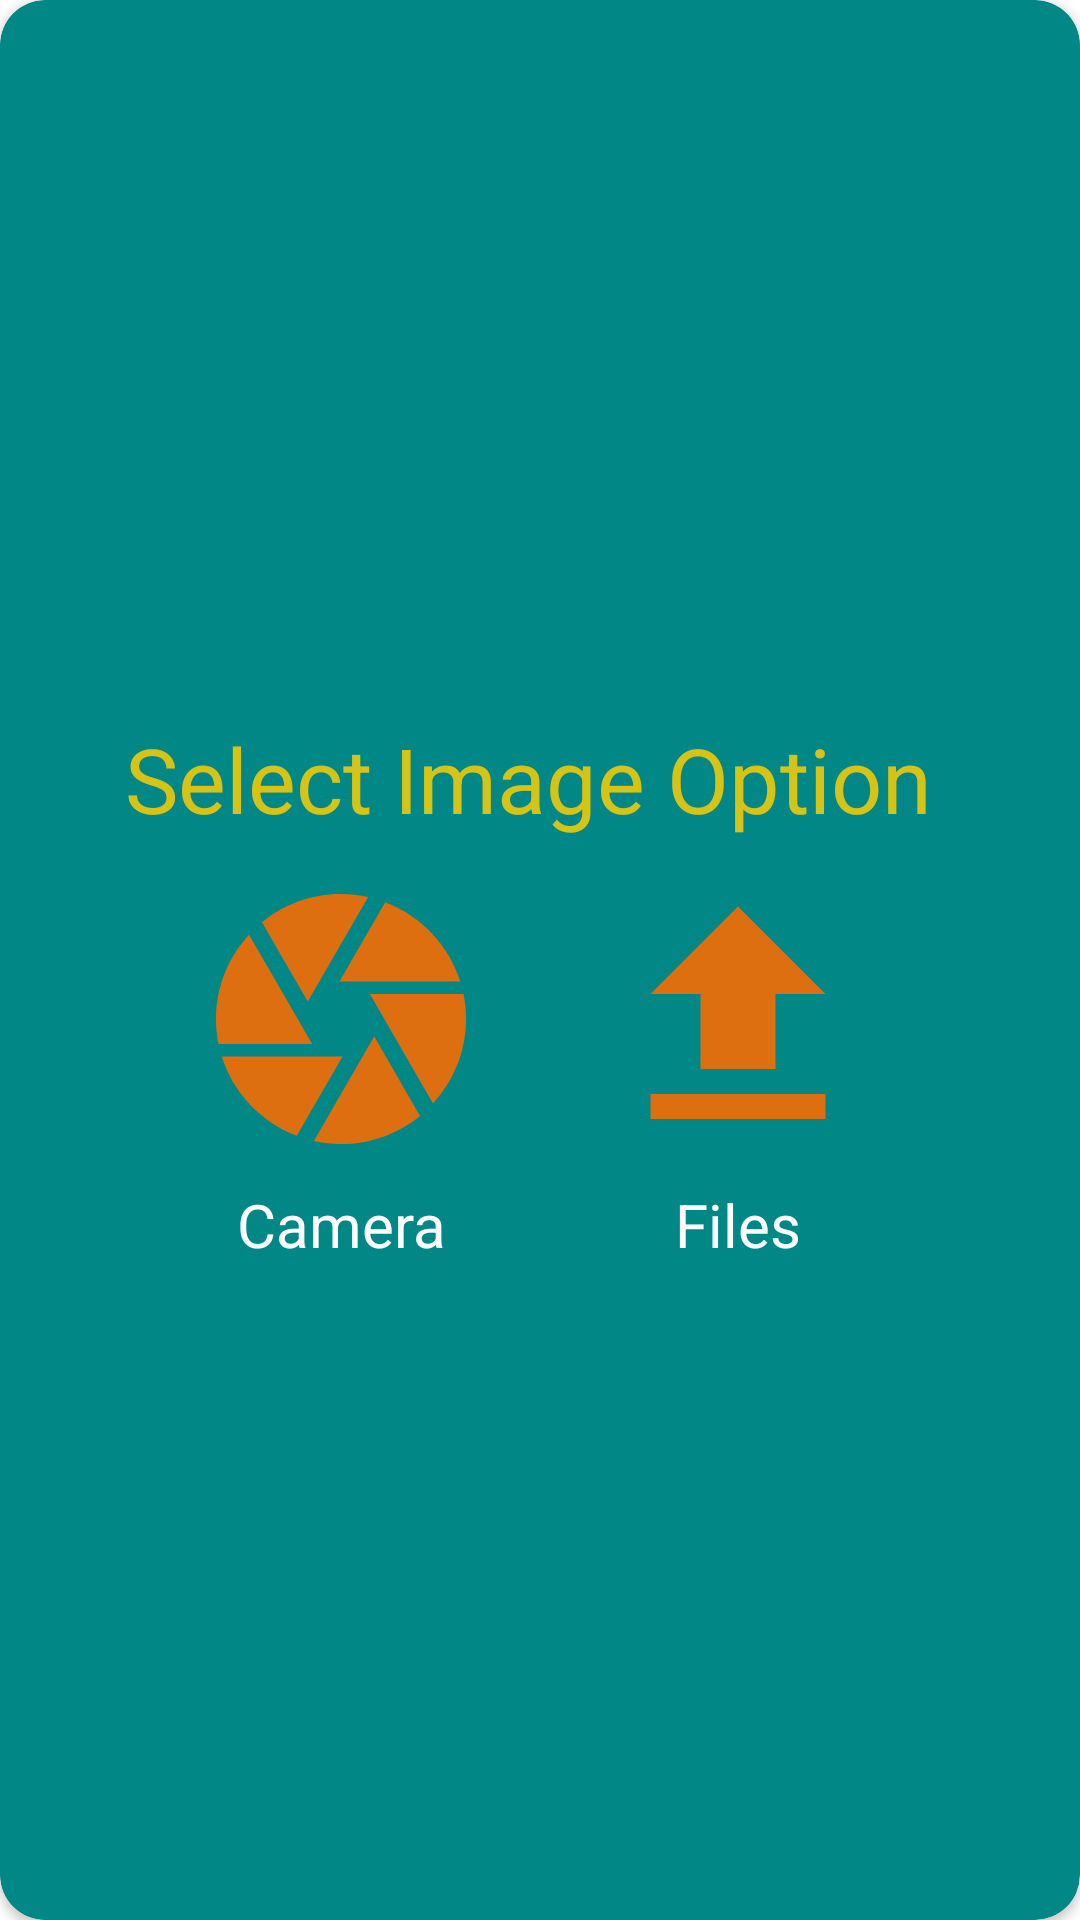

Locate icon controls on the screen. Image size 1080x1920, boxes as [x1,y1,x2,y2].
upload: [650,906,826,1119]
